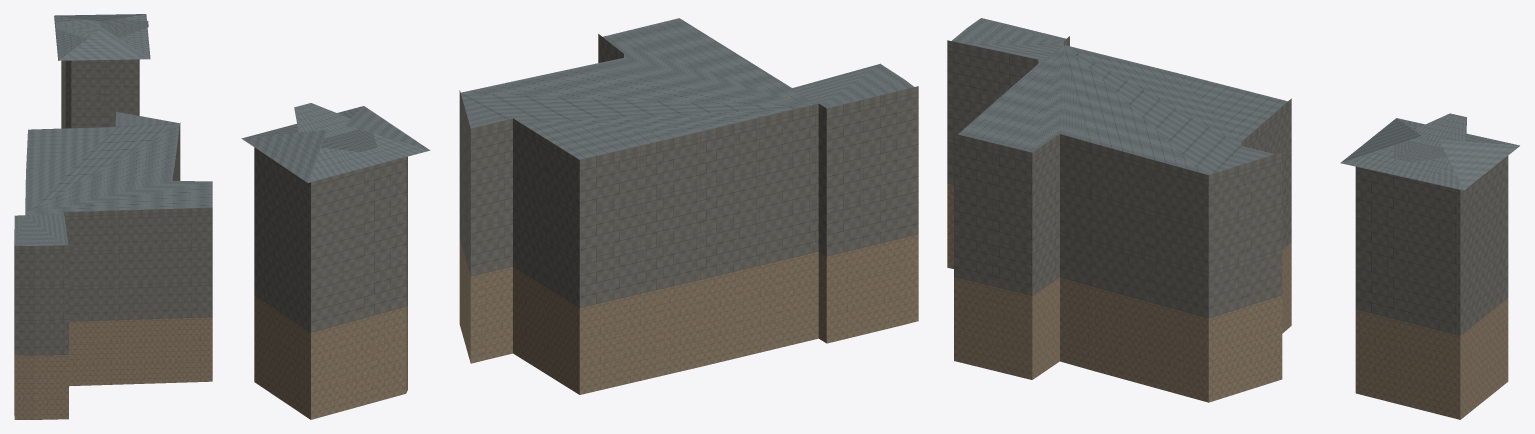
Rendered from bld_c32_-24_537.gltf.
3 views of the same model, side by side, from view 1: azimuth 30°, elevation 25°; view 2: azimuth 150°, elevation 25°; view 3: azimuth 270°, elevation 25° (orthographic). The views are drawn at different scales.
Parts seen in each view (by area): view 1: bld_c32_-24_537; view 2: bld_c32_-24_537; view 3: bld_c32_-24_537.
Part boxes in pixels (x1,y1,x2,y2): bld_c32_-24_537: (14,14,212,419); bld_c32_-24_537: (241,18,918,419); bld_c32_-24_537: (947,18,1519,419).
Bounding box in the file's own units: 26.23 × 16.3 × 31.47.
4 materials, 4 textured.
